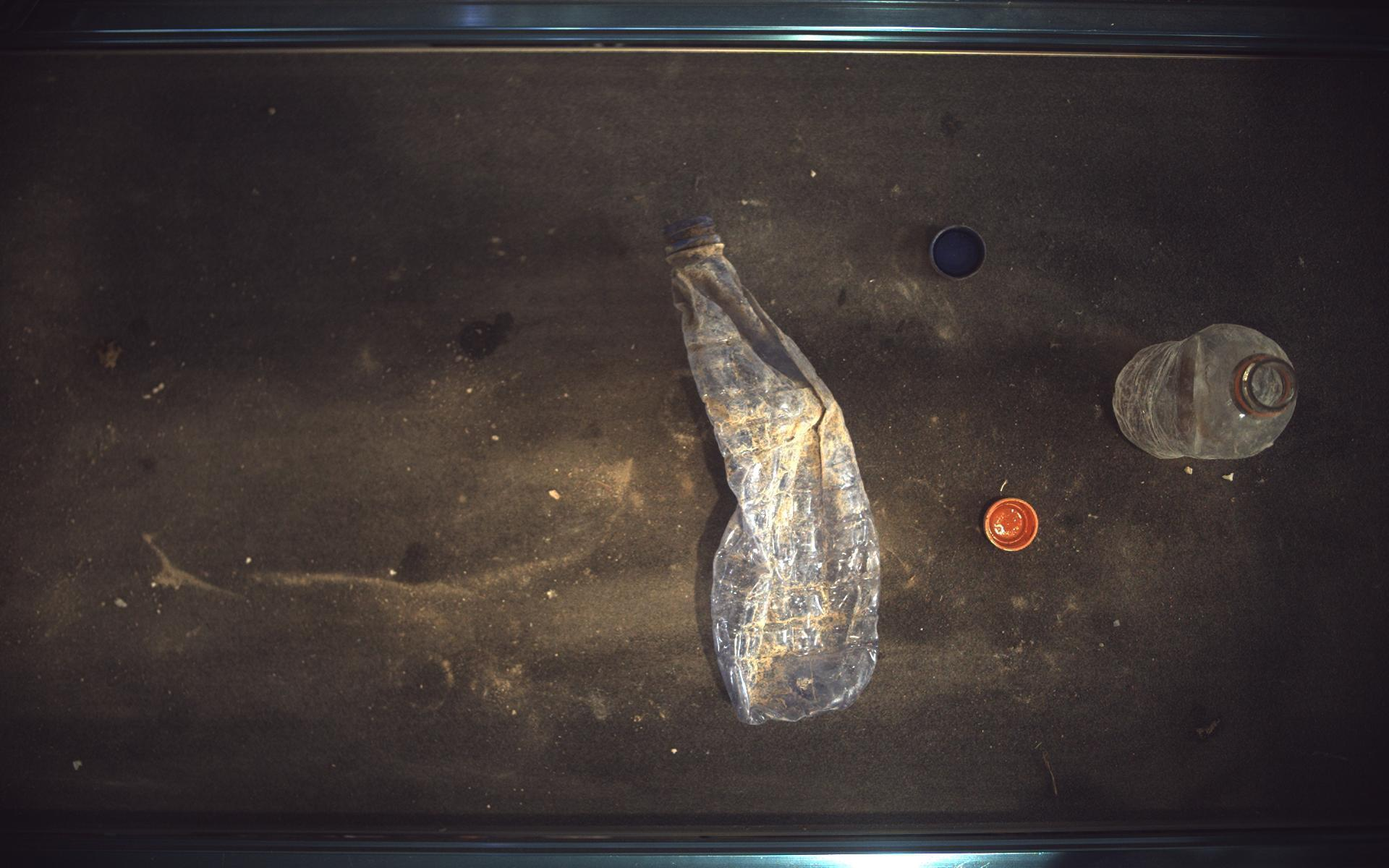general_w: (665, 215, 881, 726), (1116, 324, 1301, 459), (932, 225, 987, 279), (986, 498, 1040, 552)
